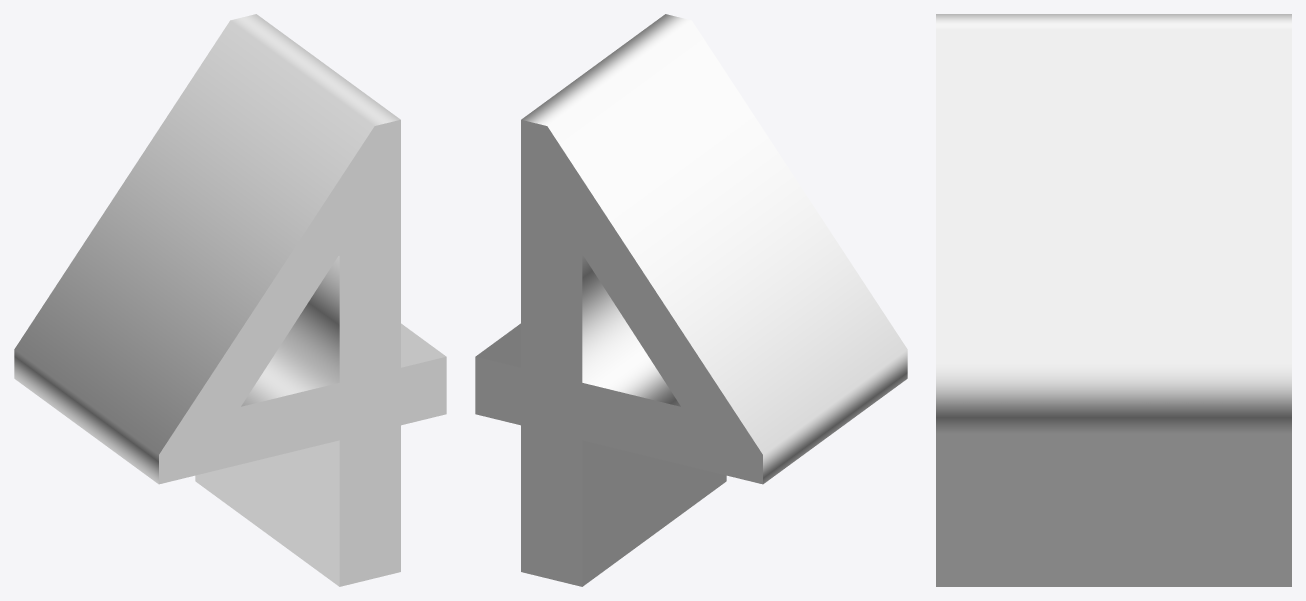
3 renders of one model, left to right at view 1: azimuth 30°, elevation 25°; view 2: azimuth 150°, elevation 25°; view 3: azimuth 270°, elevation 25°, orthographic. The views are drawn at different scales.
Visible parts, largest first — view 1: テキスト; view 2: テキスト; view 3: テキスト.
Part boxes in pixels (x1,y1,x2,y2): テキスト: (14, 14, 446, 586); テキスト: (475, 14, 907, 586); テキスト: (936, 14, 1291, 586).
Bounding box in the file's own units: 0.117 × 0.1758 × 0.1017.
1 material, 1 textured.
